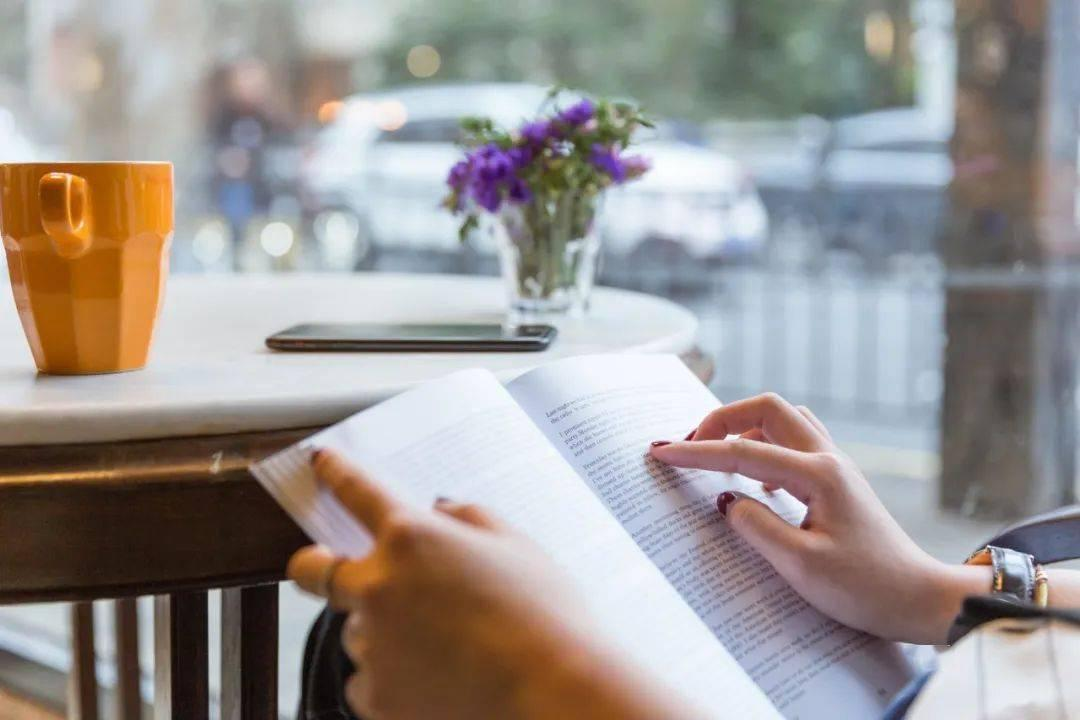book: (227, 330, 971, 720)
